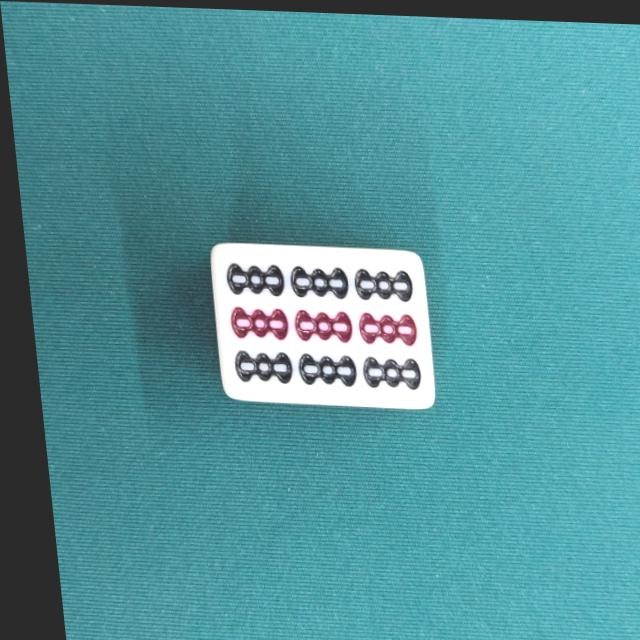9s: (199, 241, 431, 406)
